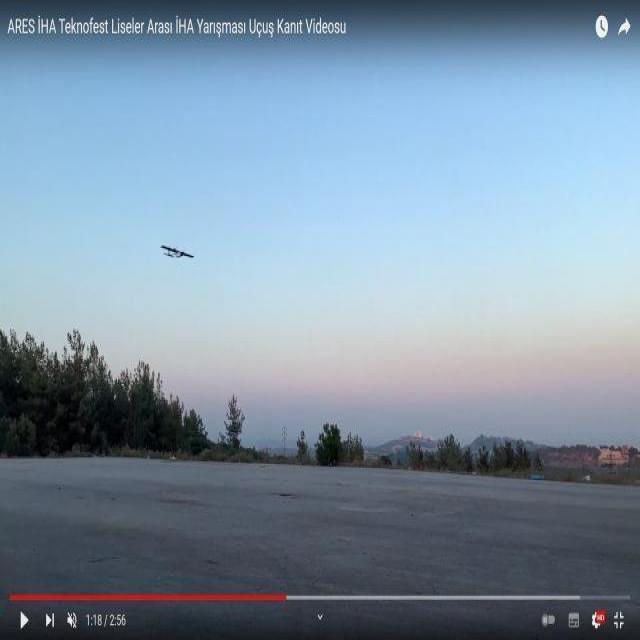Airplane: (159, 240, 197, 263)
